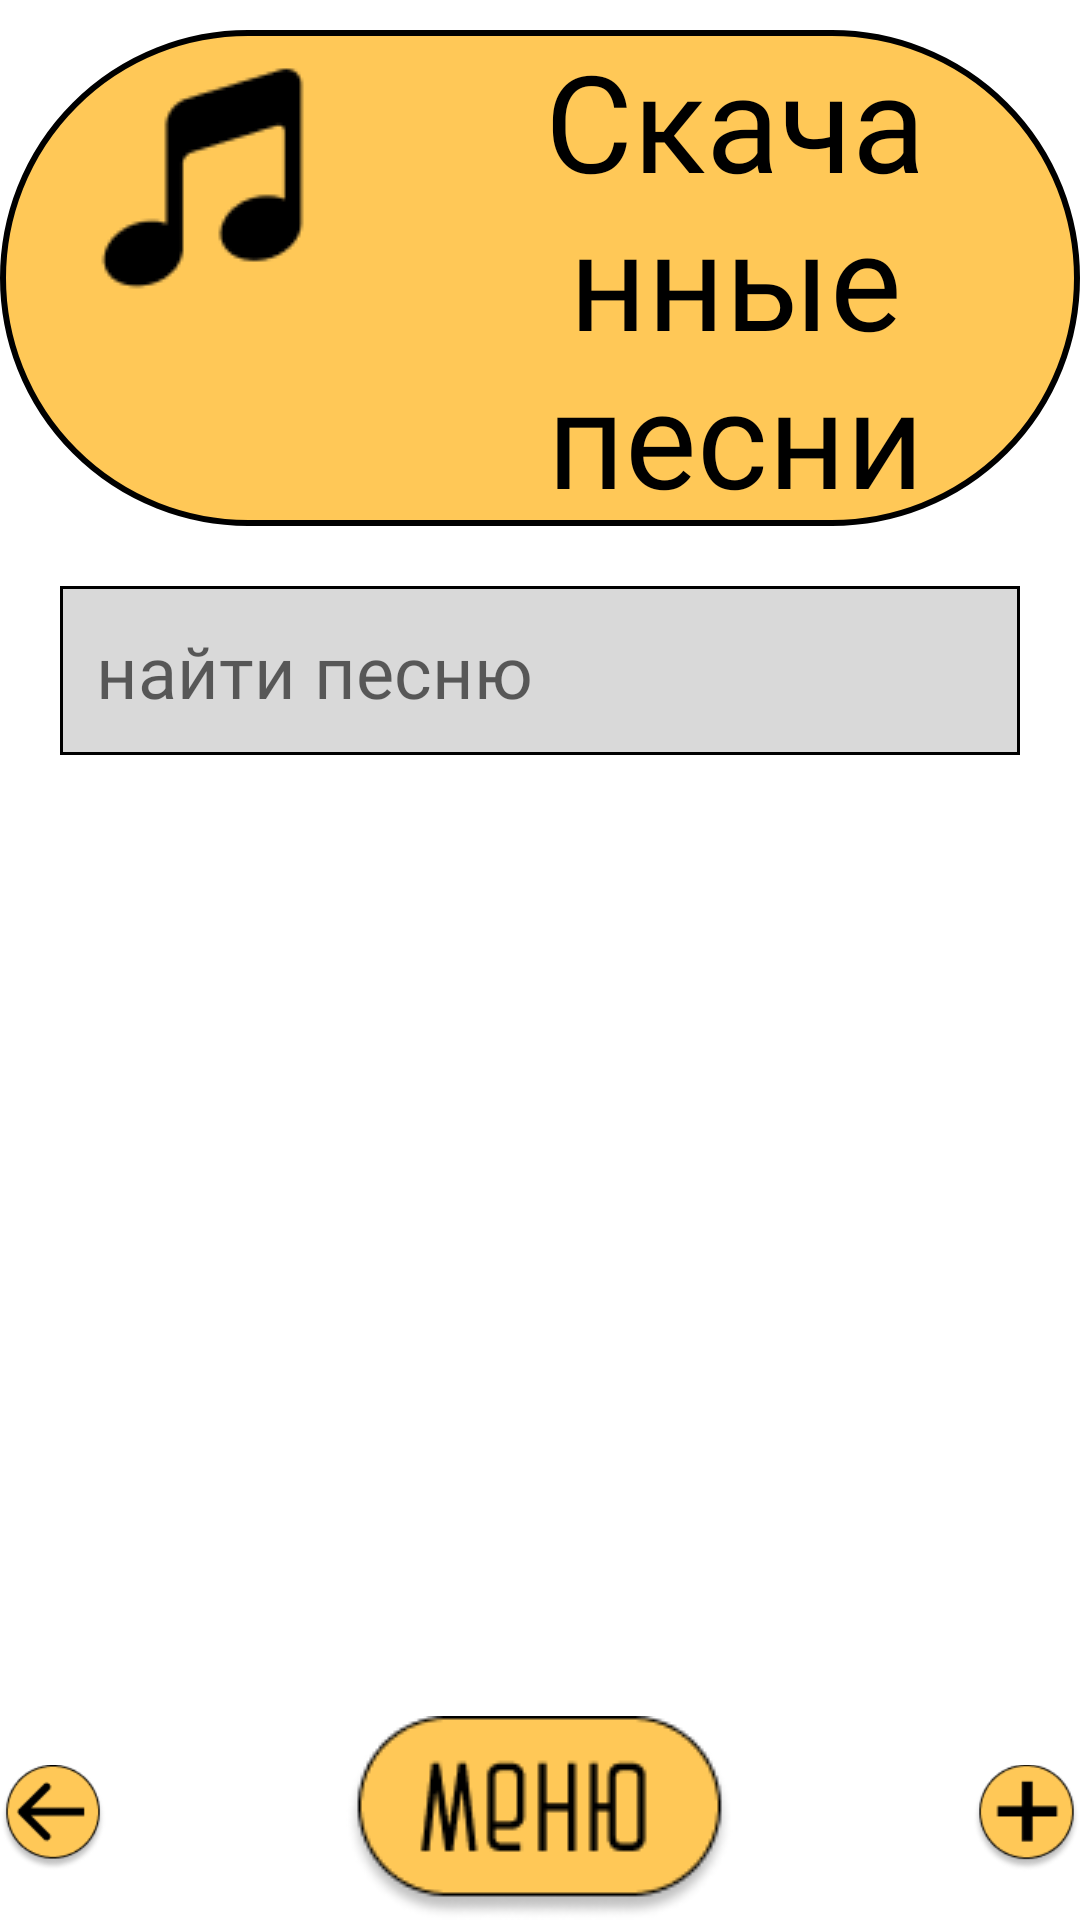

Where to tap for icons on this 1080px x 1920px app screen, as [x,y]:
back: [53,1815]
nota: [202,178]
plus: [1026,1815]
